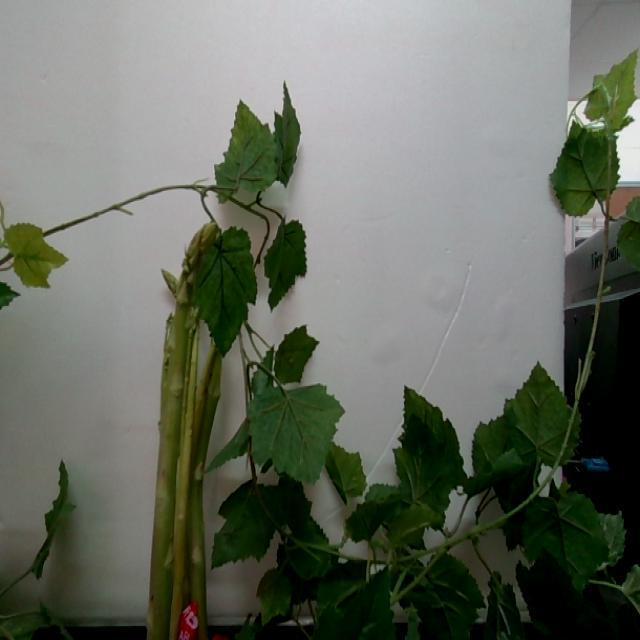aspargus: (144, 218, 216, 640)
